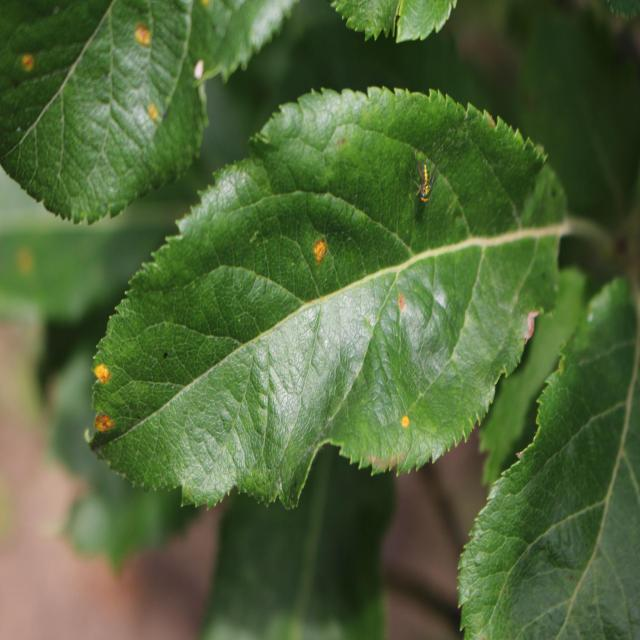Rust: (302, 214, 339, 276), (92, 348, 128, 398), (88, 406, 120, 443), (389, 282, 411, 318), (395, 407, 414, 434)
